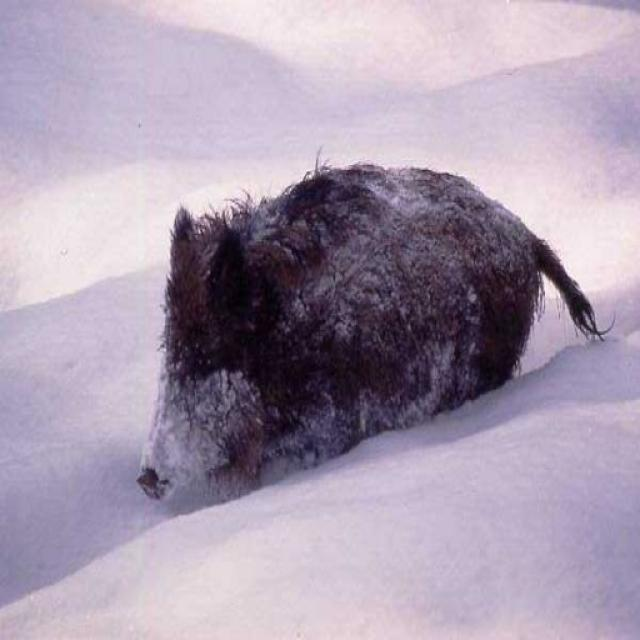pig: (92, 124, 618, 543)
